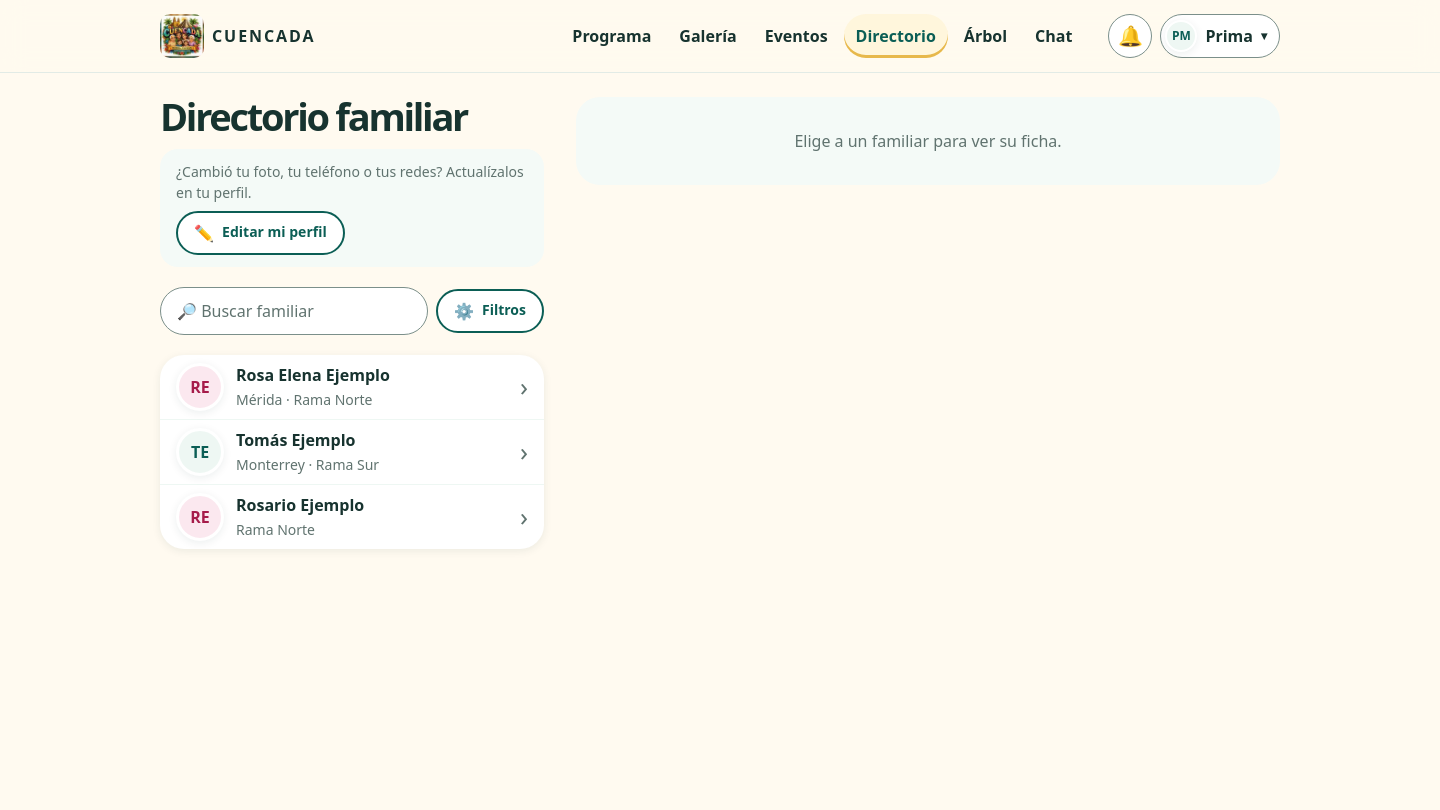
Test: DirectoryPage list › debounces the search and sends it only from two characters
The image size is (1440, 810).
Expected: the link "TE Tomás Ejemplo Monterrey · Rama Sur ›" is shown, [160,420,544,484]
Type "R" into the search field named "Buscar por nombre o ciudad" at (294, 311), box [160,287,428,335]
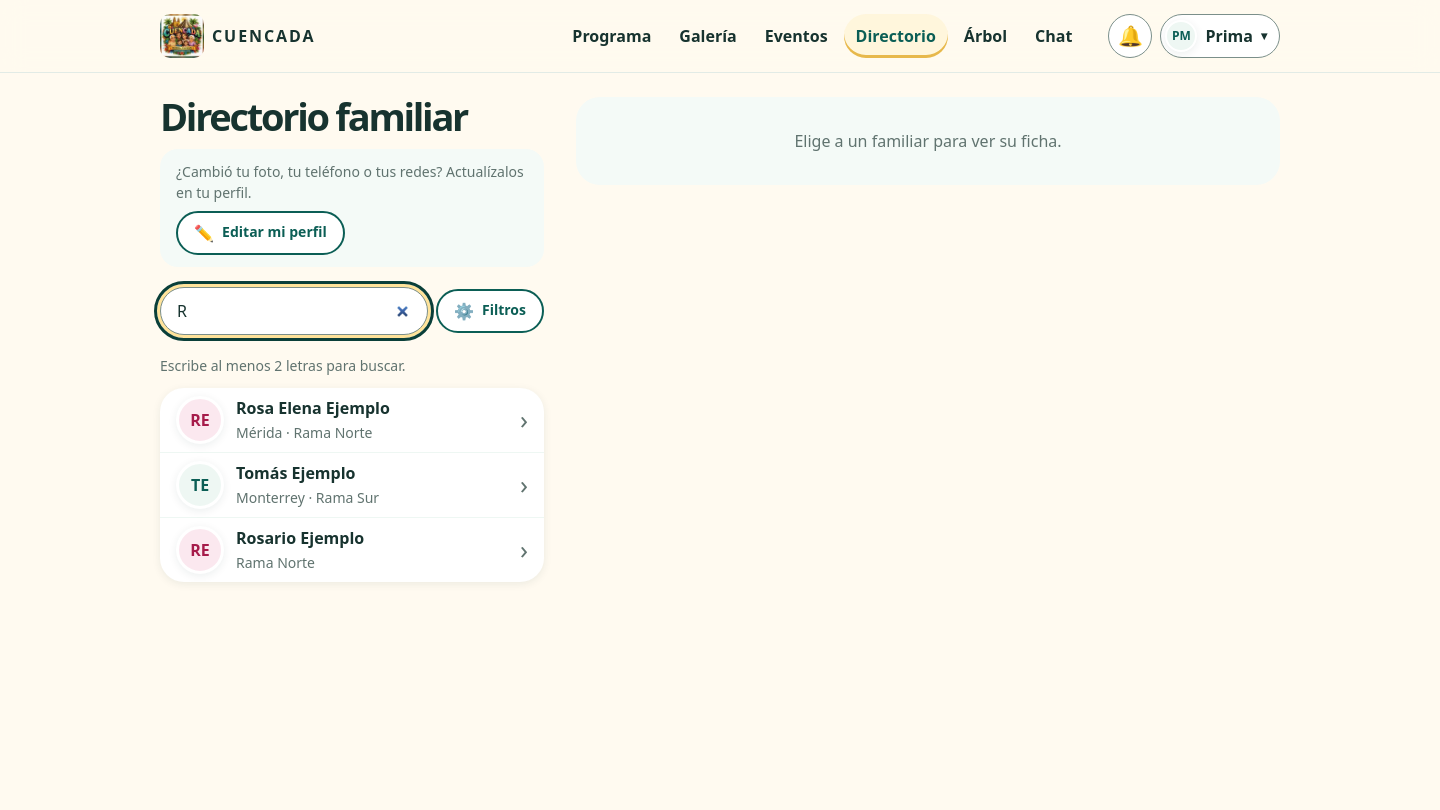
Expected: the text "Escribe al menos 2 letras para buscar." is shown, [160,356,406,375]
Type "osa" into the search field named "Buscar por nombre o ciudad" at (294, 311), box [160,287,428,335]
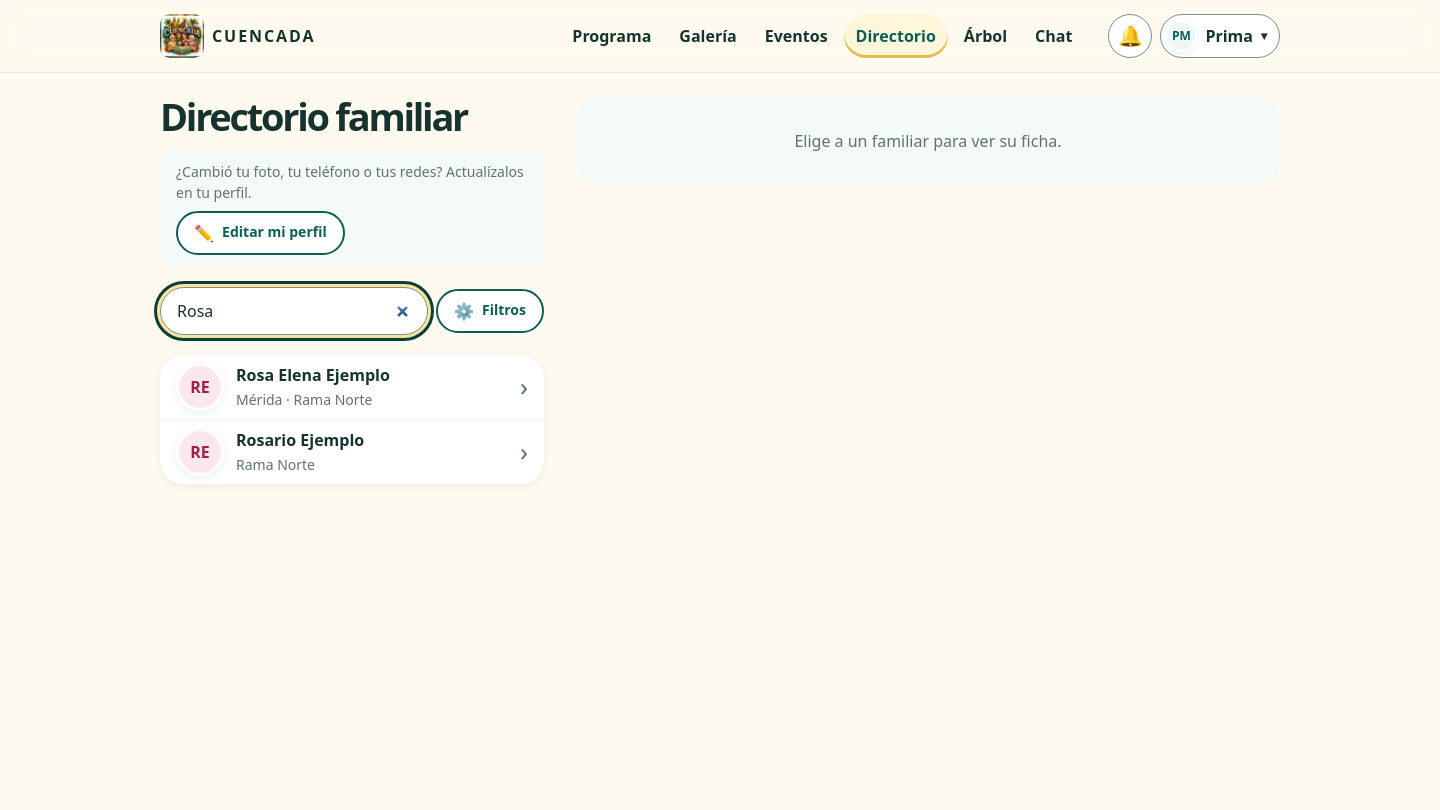
Expected: the link "RE Rosa Elena Ejemplo Mérida · Rama Norte ›" is shown, [160,355,544,419]
Expected: the link "Tomás Ejemplo" is gone
